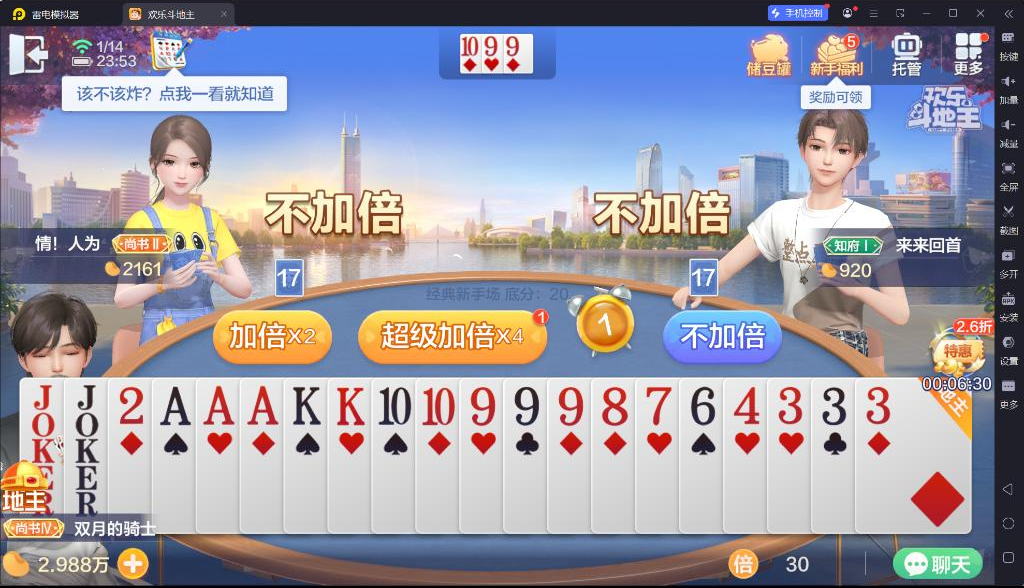A: (243, 382, 280, 428), (158, 383, 194, 429), (202, 382, 236, 428)
JOKER: (24, 381, 60, 465)
K: (288, 383, 323, 427), (333, 383, 368, 427)
eight: (599, 386, 629, 429)
four: (730, 383, 763, 427)
joker: (71, 383, 105, 469)
nine: (464, 383, 498, 429), (554, 383, 584, 428), (512, 382, 540, 429), (505, 35, 521, 58), (483, 35, 498, 57)
seven: (643, 383, 673, 427)
six: (688, 383, 718, 427)
ten: (377, 381, 413, 427), (420, 383, 455, 427), (460, 35, 479, 59)
three: (774, 383, 804, 428), (863, 384, 893, 426), (820, 384, 848, 427)
two: (115, 382, 148, 428)
